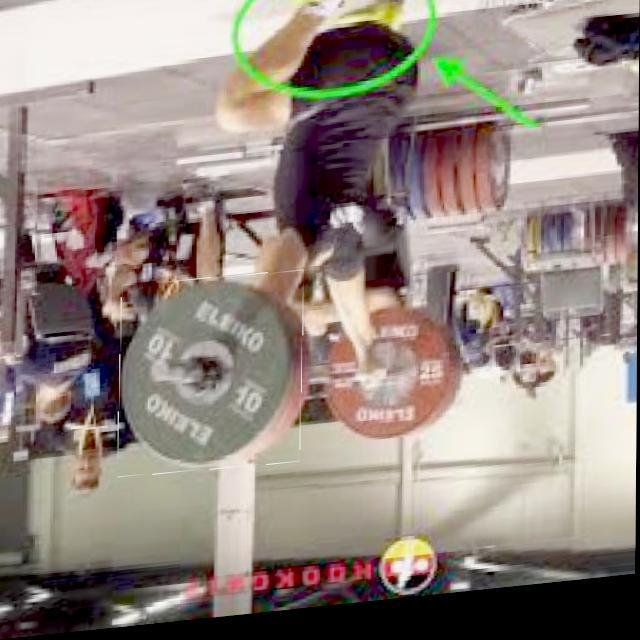barbell: (119, 275, 304, 483)
